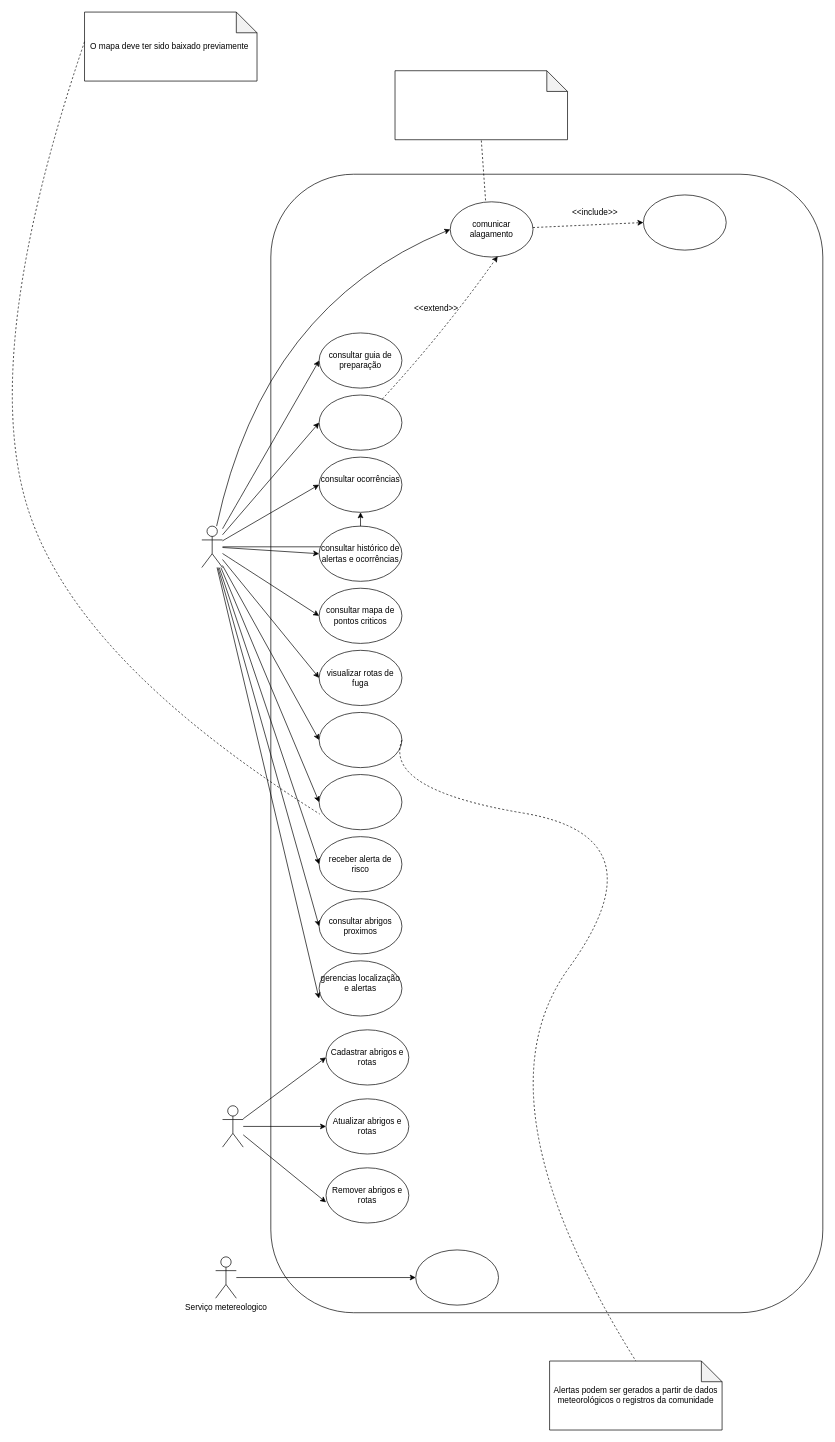
This 835x1442 diagram has some shape labels left out. The shapes that lost their labels are listed below. From the top down, each one's centre as x and y in pixels, then its label:
pixel 481 105: O registro é realizado anonimamente
pixel 684 222: informar localização
pixel 360 422: adicionar descrição
pixel 212 546: Usuario
pixel 360 740: gerar e atualizar alertas
pixel 360 802: baixar mapa offline
pixel 232 1126: Defesa Civil
pixel 457 1277: Integrar dados meteorologicos
